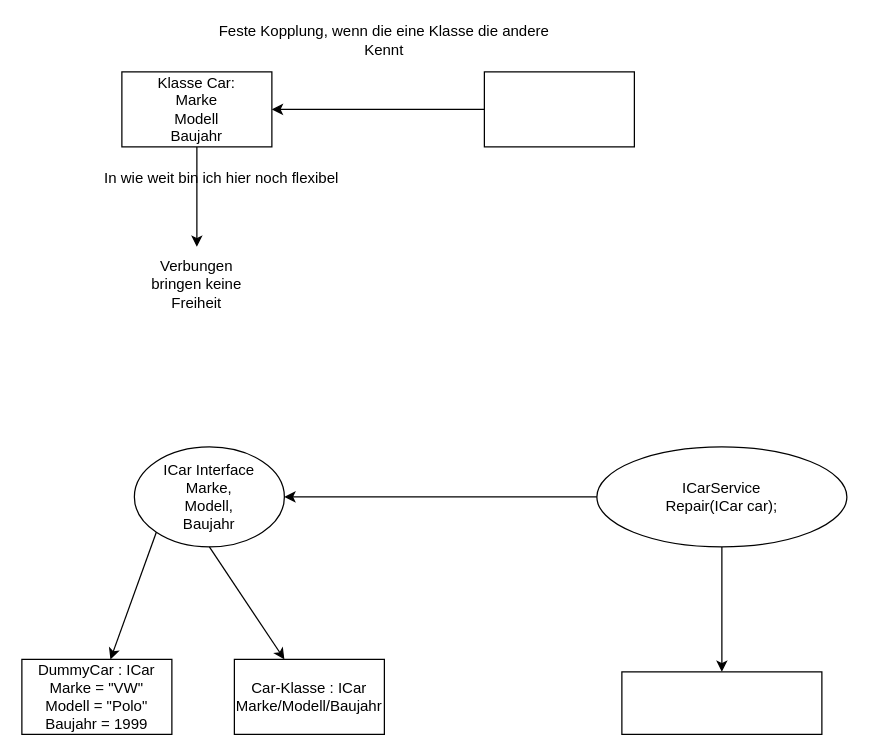
This 869x756 diagram has some shape labels left out. The box of each missing label's shape, as (x1, y1, x2, y2) in pixels:
BadCarService Repairt(Car car): (483, 71, 634, 147)
CarService : ICarService Repair(ICar car): (621, 671, 822, 734)
